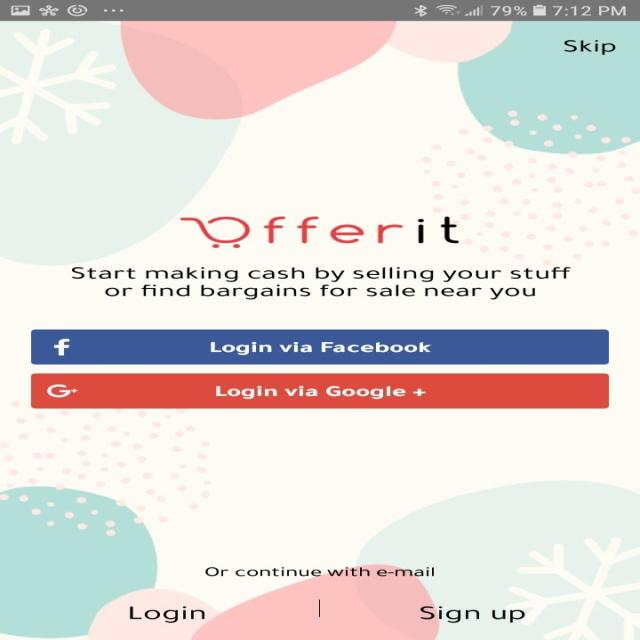BackgroundImage: (0, 21, 639, 639)
Image: (180, 216, 460, 248)
Text: (71, 266, 571, 300), (204, 566, 434, 576), (418, 605, 526, 623), (128, 605, 204, 623), (562, 39, 616, 56)
TextButton: (30, 373, 608, 409), (30, 329, 608, 364)
